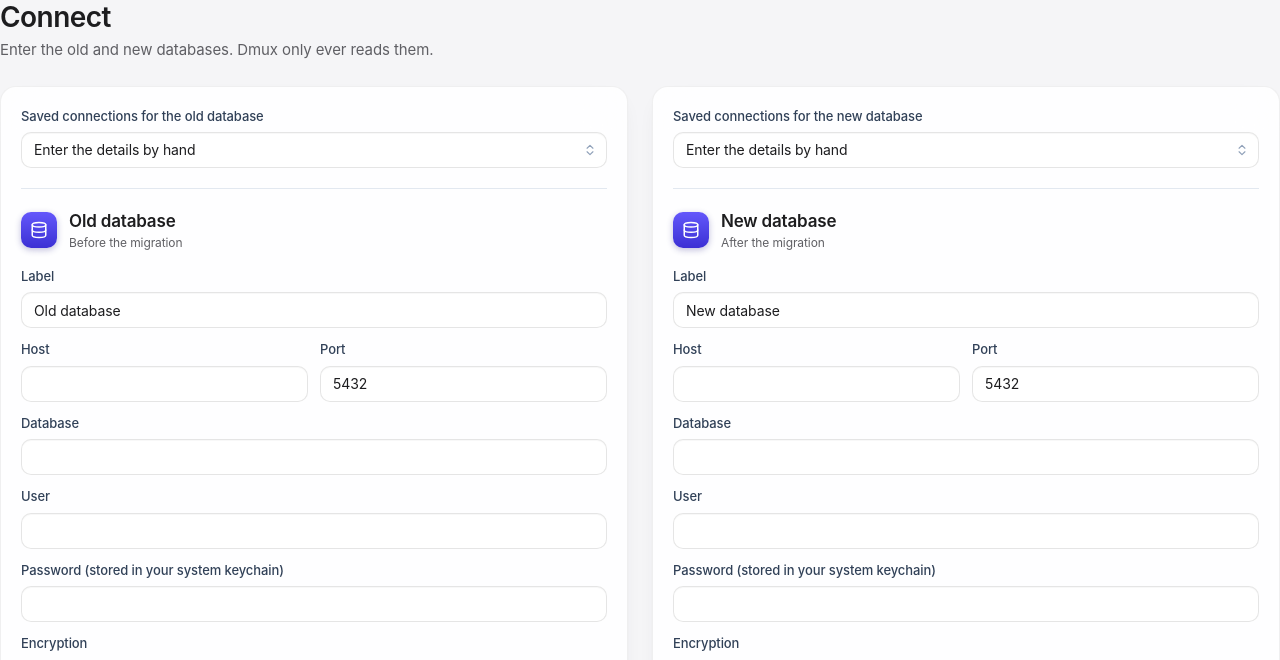
Connect screen: saved connections › will not use one saved connection for both databases
The image size is (1280, 660).
Select "Production (reader@db.example.org:6543/bank)" in the dropdown with test id "Old database-saved-select": [314, 150] box x1=21 y1=132 x2=607 y2=168
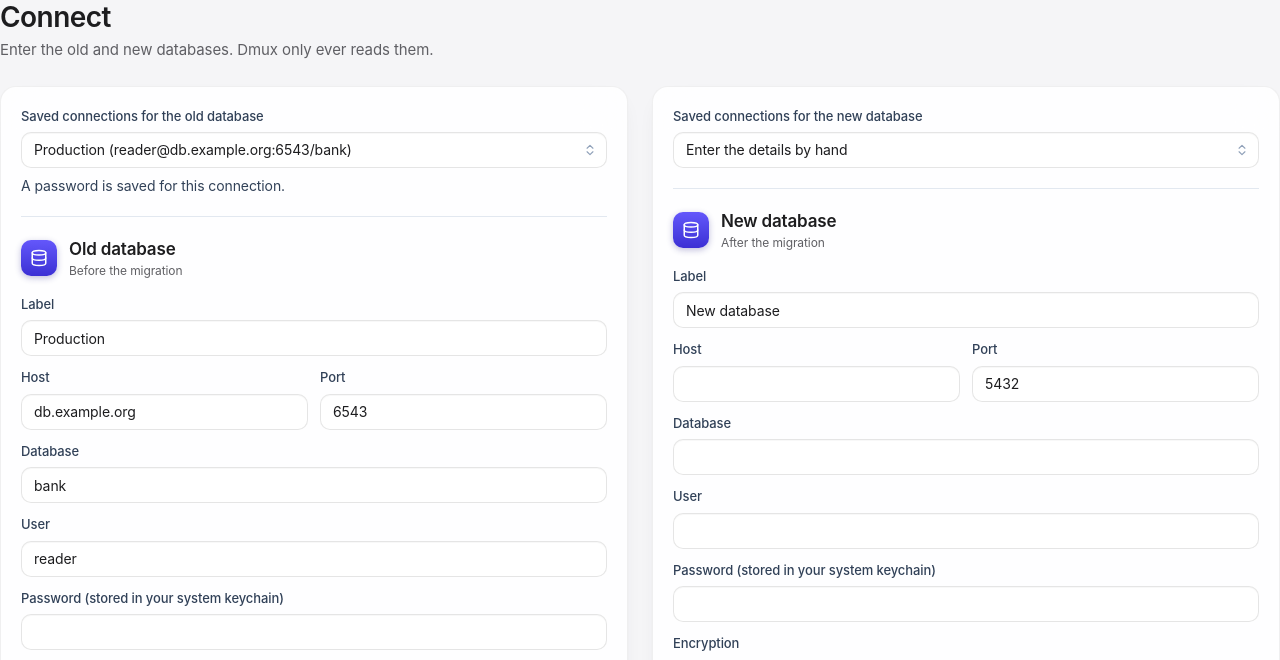
Select "Production (reader@db.example.org:6543/bank)" in the dropdown with test id "New database-saved-select": [966, 150] box x1=673 y1=132 x2=1259 y2=168
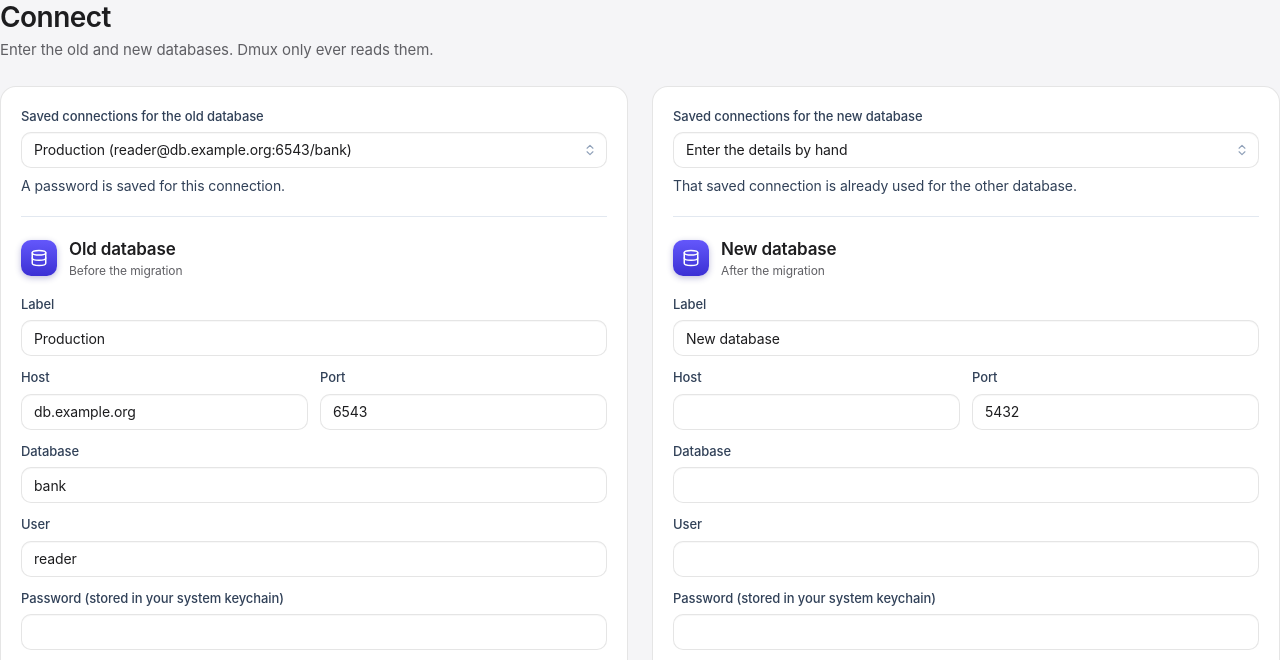
Check: the text "That saved connection is already used for the other database." is shown, box x1=673 y1=177 x2=1077 y2=194
